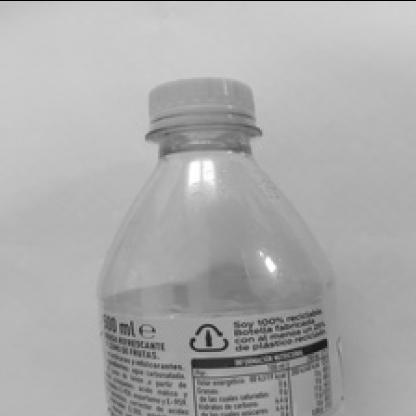plastic_bottles: (89, 71, 345, 416)
